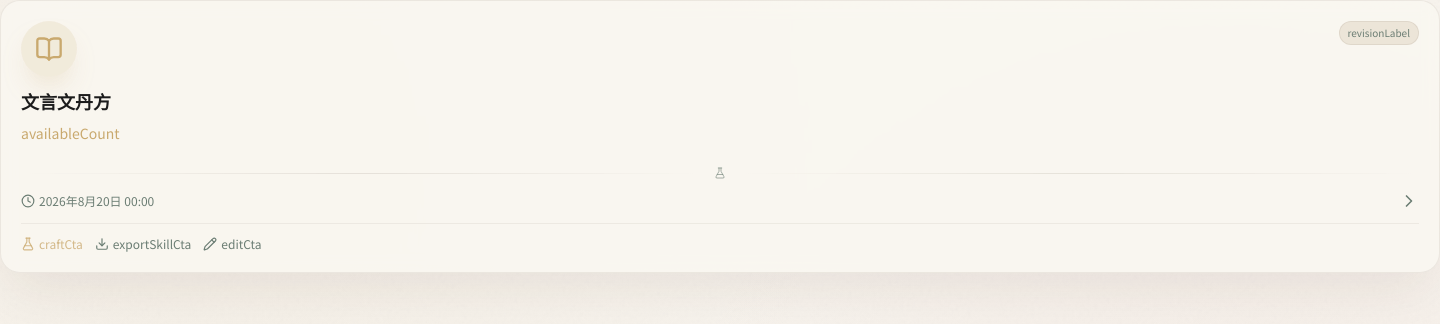
Test case: RecipeCard 炼制 1 枚（幂等契约） › 双击「炼制 1 枚」只产生一次 craftPill（提交中按钮禁用）
The image size is (1440, 324).
Click the button "craftCta" at (52, 244), box [21,236,83,252]
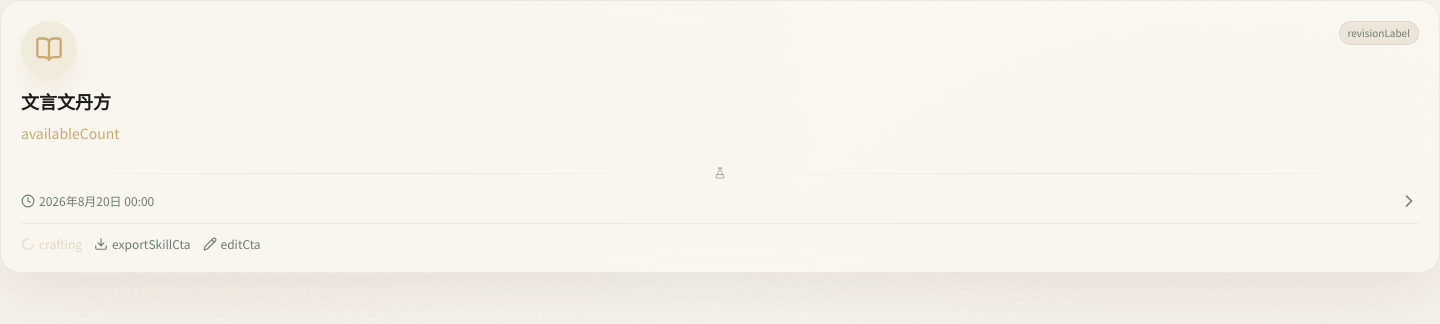
Click the button "craftCta" at (52, 244), box [21,236,82,252]
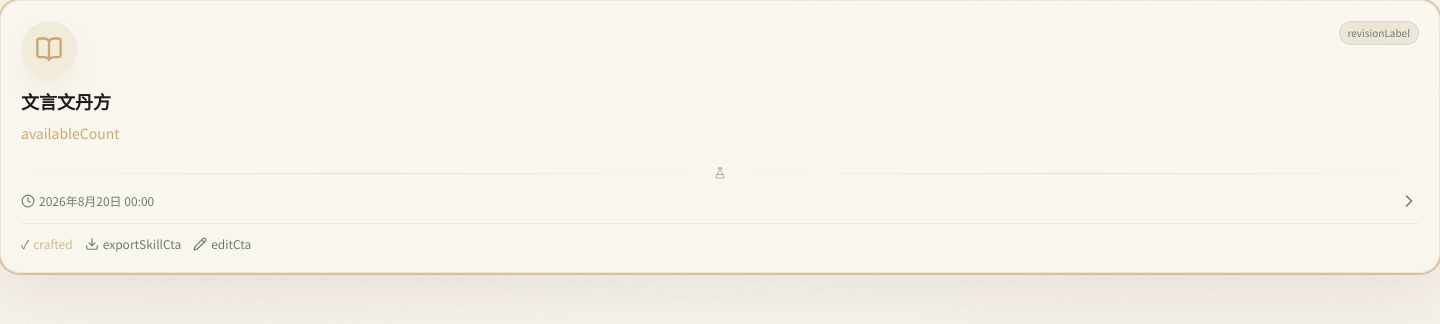
Expected: the button "✓ crafted" is shown, [21,236,73,252]
